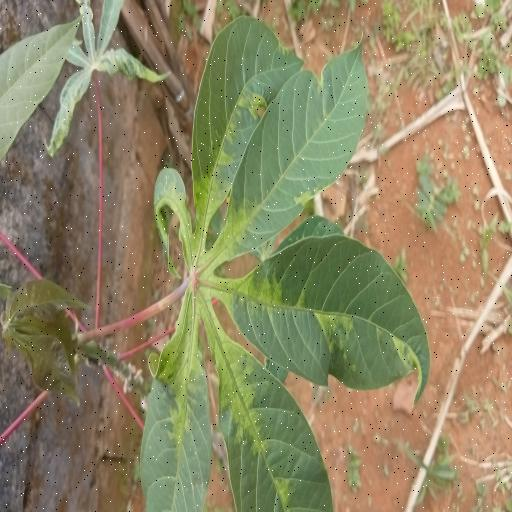Cassava_Mosaic: (139, 14, 431, 512)
